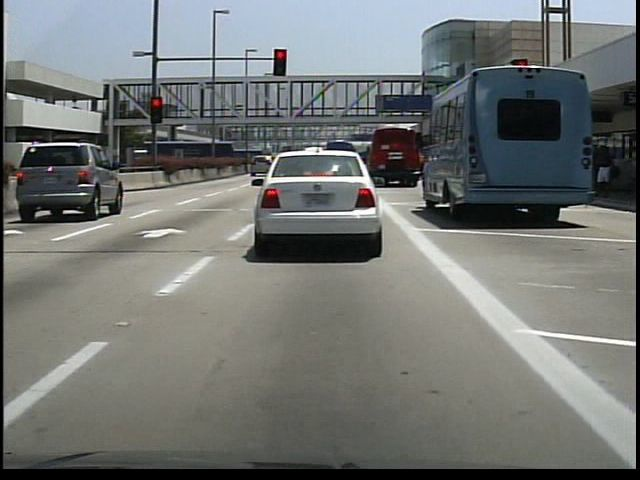person: (593, 141, 614, 195)
